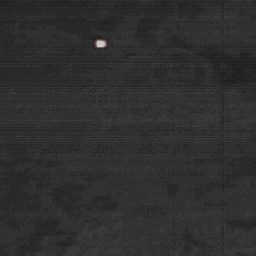Target: (94, 39, 108, 48)
